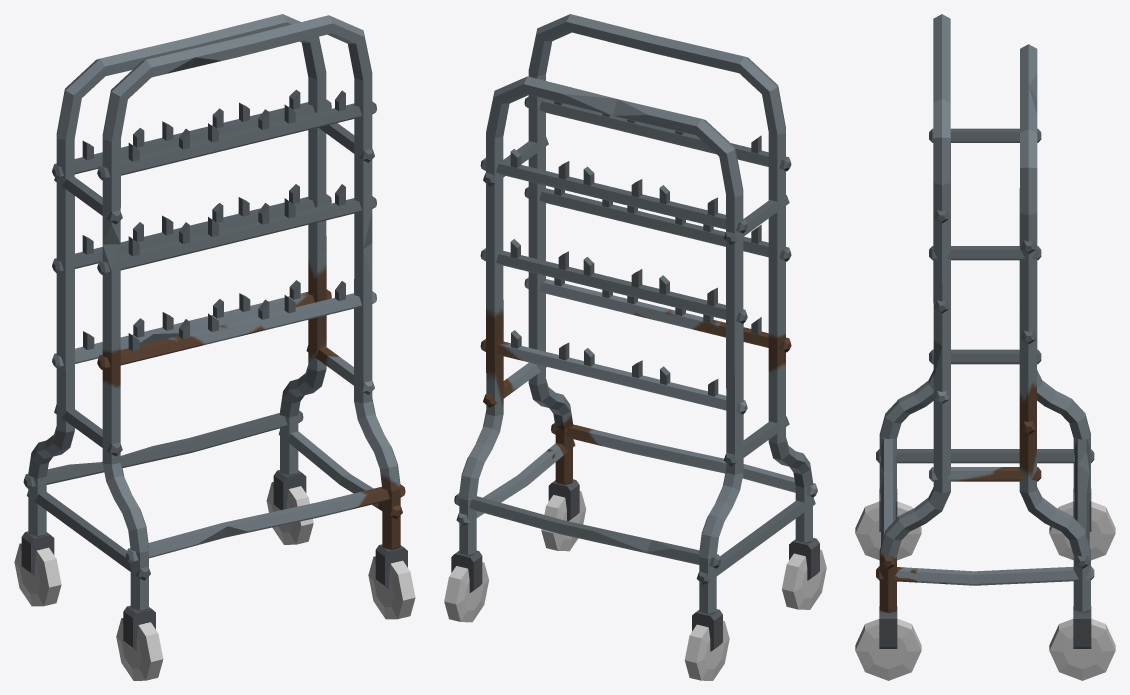
Rendered from SM_Prop_Stand_Jar_01.fbx.
3 views of the same model, side by side, from view 1: azimuth 30°, elevation 25°; view 2: azimuth 150°, elevation 25°; view 3: azimuth 270°, elevation 25° (orthographic). The views are drawn at different scales.
Visible parts, largest first — view 1: SM_Prop_Stand_Jar_01; view 2: SM_Prop_Stand_Jar_01; view 3: SM_Prop_Stand_Jar_01.
Part boxes in pixels (x1,y1,x2,y2): SM_Prop_Stand_Jar_01: (14,14,415,680); SM_Prop_Stand_Jar_01: (444,14,826,680); SM_Prop_Stand_Jar_01: (855,14,1115,680).
Size of the model in its own units: 94.81 by 194 by 81.11.
